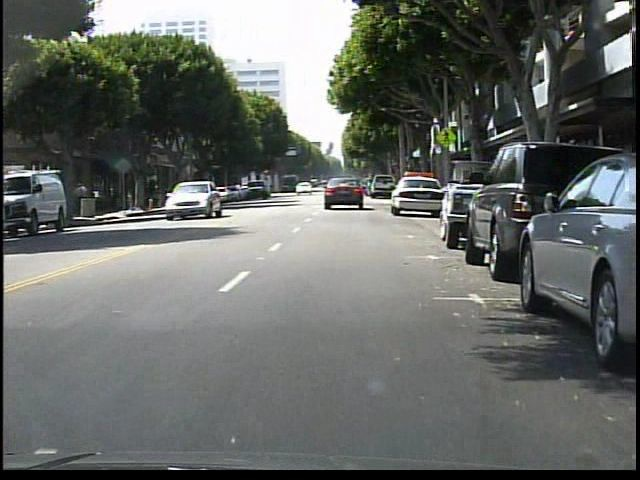person: (75, 179, 94, 221)
